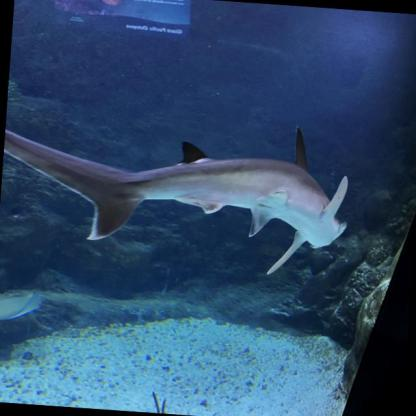shark: (0, 105, 356, 280)
stingray: (0, 275, 42, 330)
